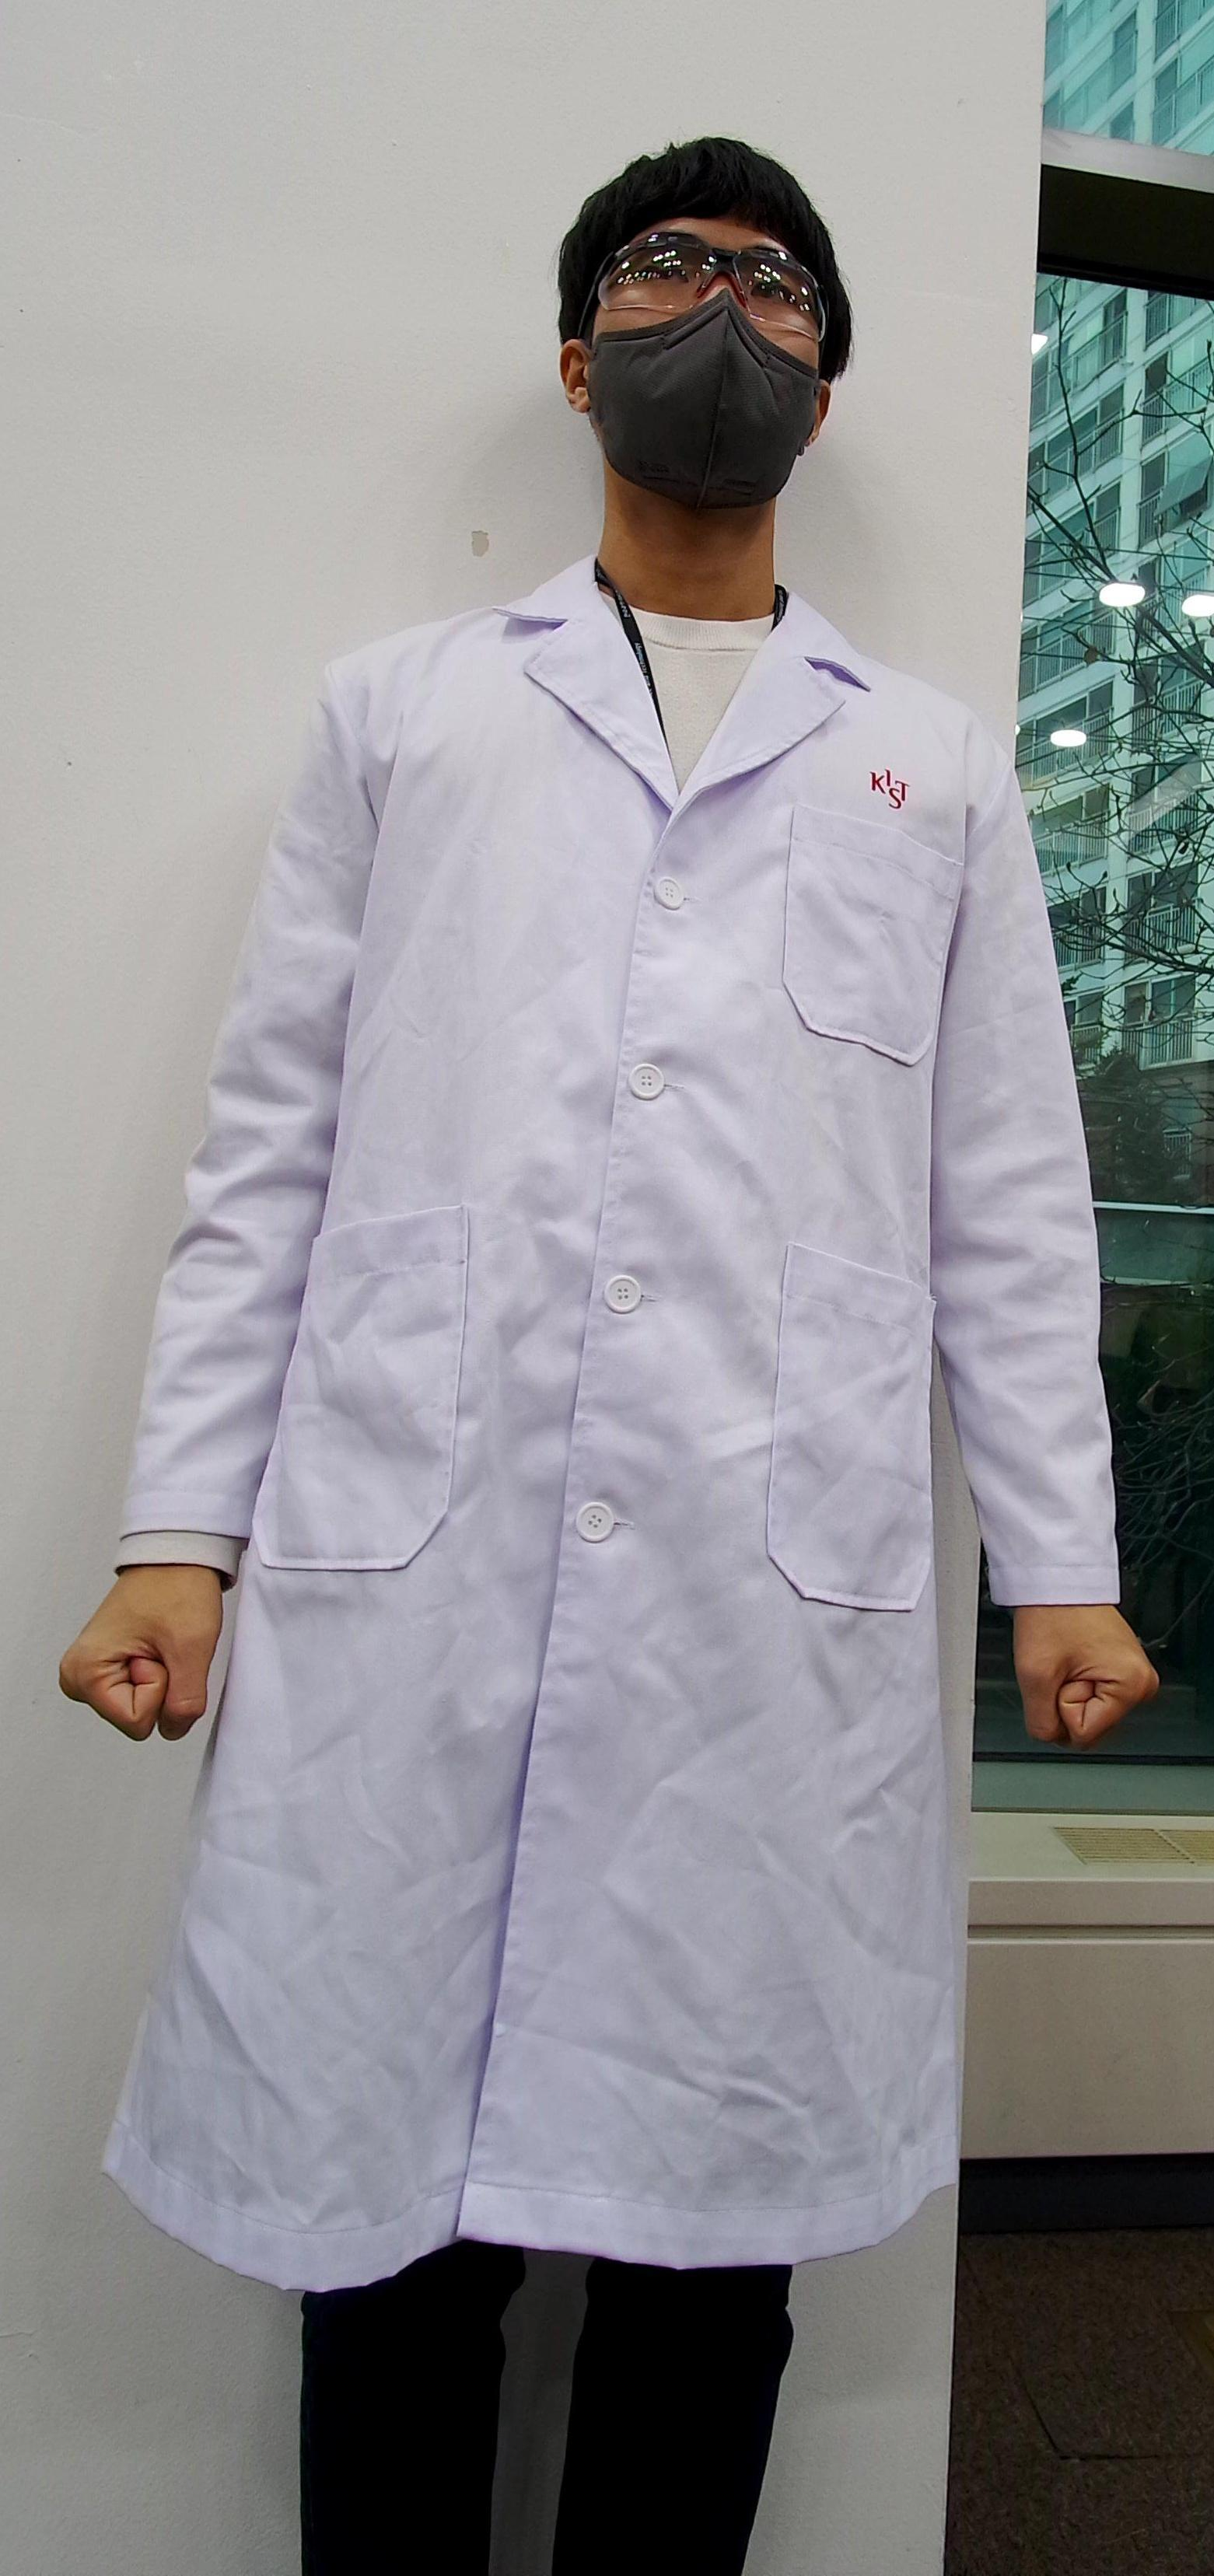lab_coat: (220, 655, 989, 2249)
